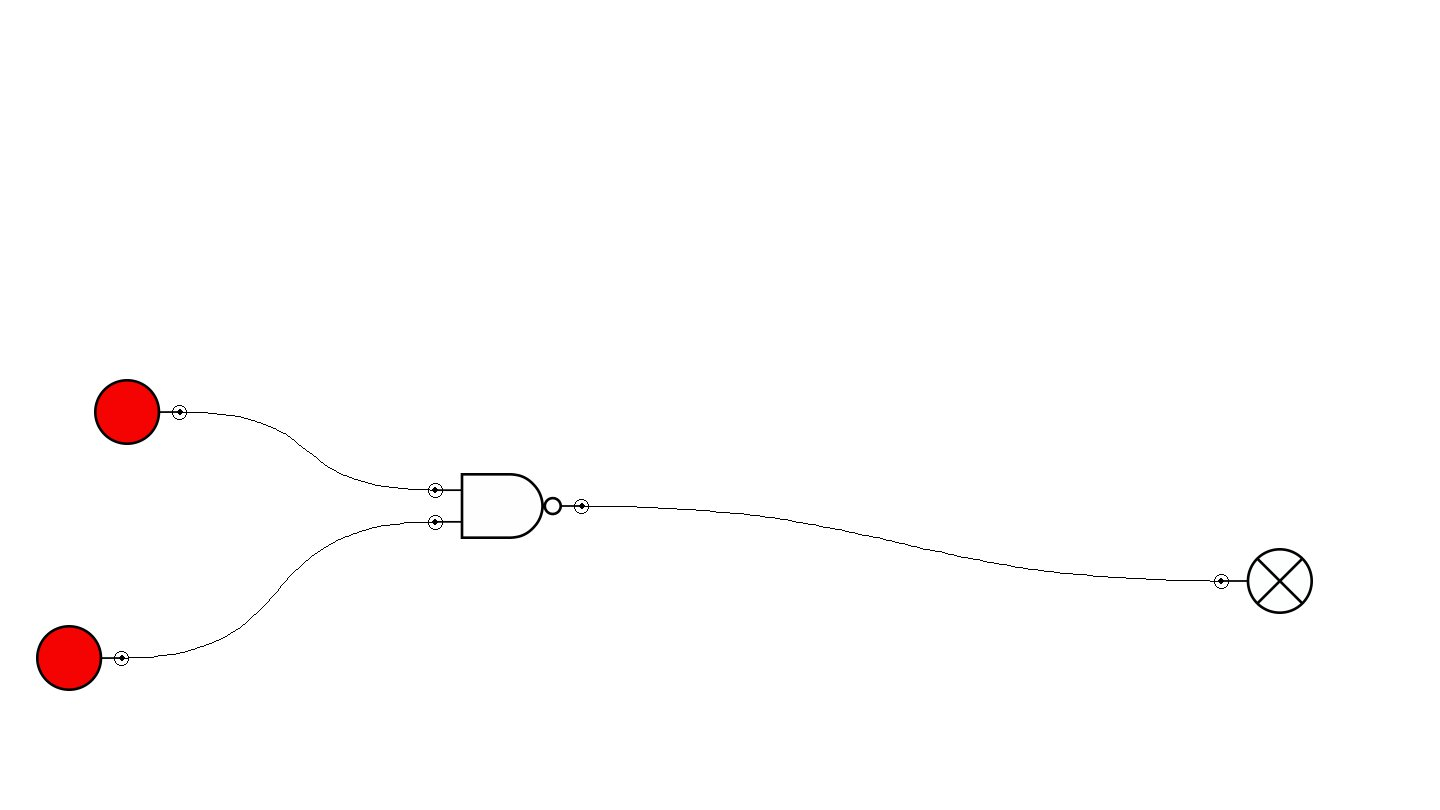bulb: (1214, 548, 1313, 614)
nand: (428, 473, 589, 539)
switch_False: (36, 625, 129, 691), (94, 379, 187, 445)
